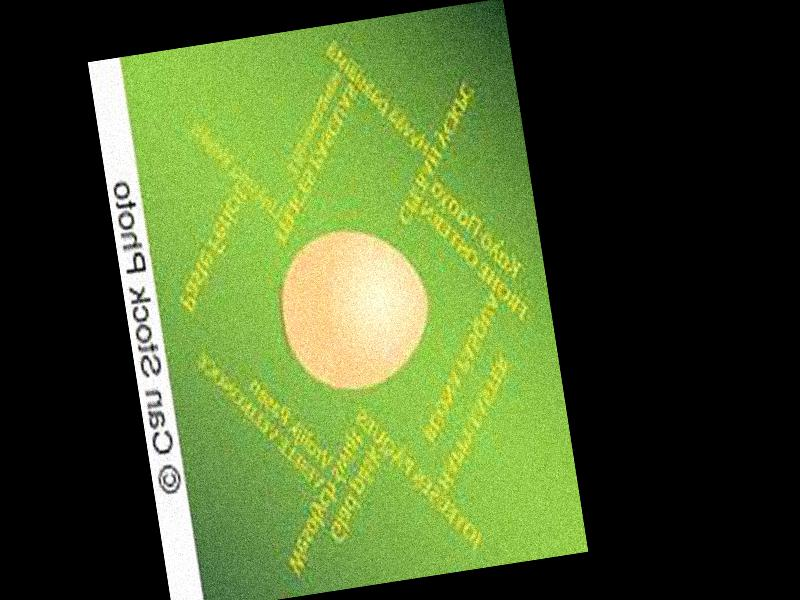Eggs: (272, 222, 438, 398)
